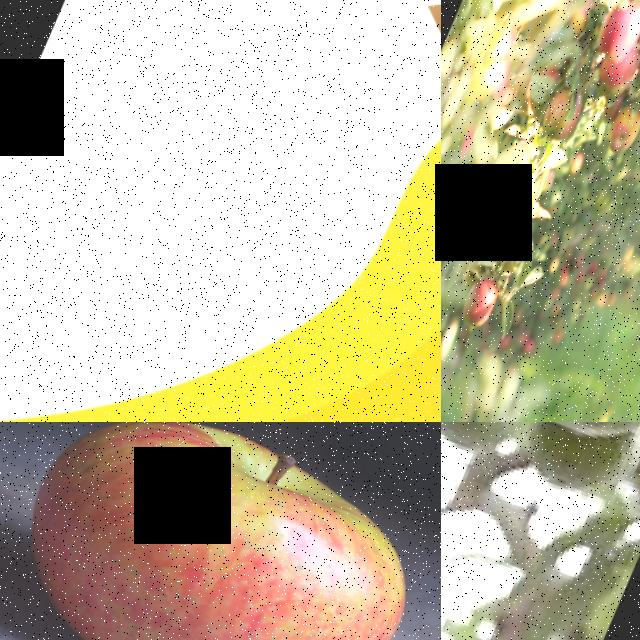apple: (0, 422, 441, 640), (456, 257, 518, 340), (477, 15, 541, 91), (487, 158, 551, 233), (589, 0, 640, 75), (539, 79, 599, 141), (481, 78, 530, 145), (599, 102, 640, 167), (503, 211, 548, 262), (559, 0, 606, 45)
avocado: (514, 422, 640, 512), (441, 422, 565, 458)
banana: (0, 0, 441, 422)
